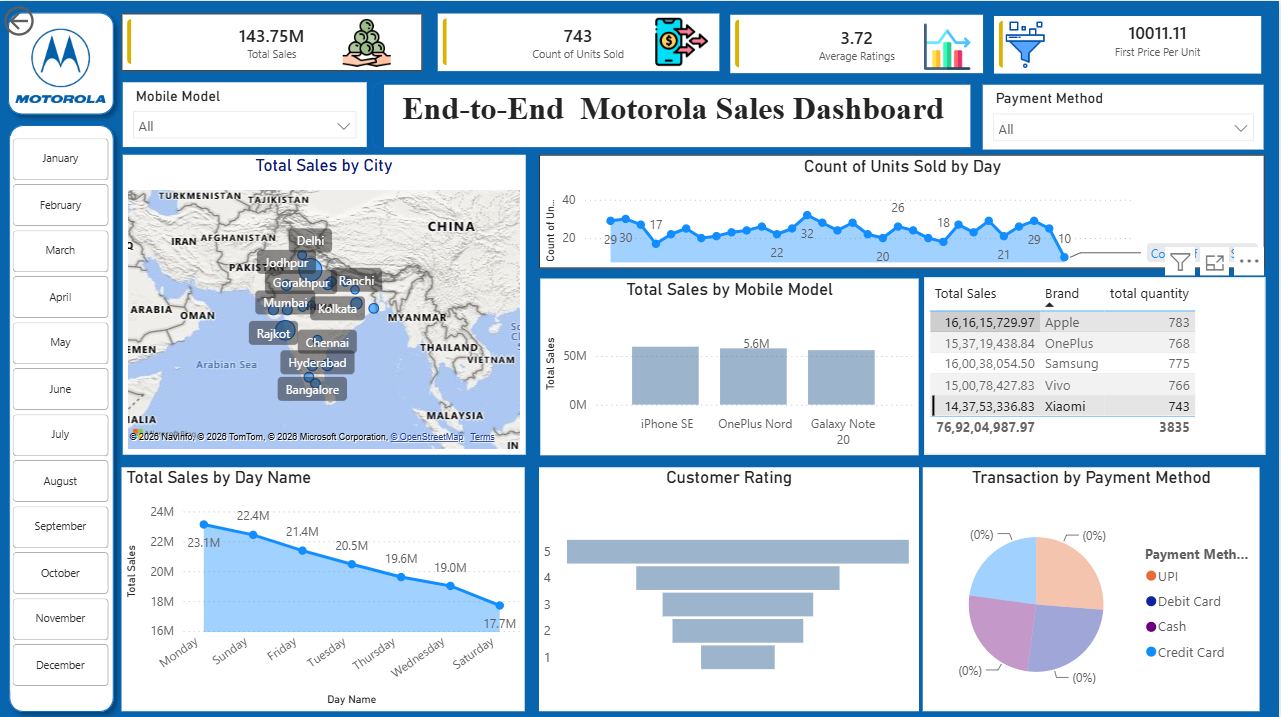

What the dashboard file says about the page in this screenshot:
{"tool":"powerbi","page":{"name":"Page 1","canvas":[1280,720],"ordinal":0},"visuals":[{"type":"shape","box":[0,2.3,123.8,120],"z":0},{"type":"image","box":[16.2,12.5,90.8,104.6],"z":1000},{"type":"shape","box":[1.2,115,122.5,605],"z":2000},{"type":"advancedSlicerVisual","fields":{"Values":["Sheet1.Date.Variation.Date Hierarchy.Month"]},"box":[11.5,134.6,100,555.1],"z":3000},{"type":"cardVisual","fields":{"Data":["Order_data.Total Sales"]},"box":[122.3,12.8,301.1,57.4],"z":4000},{"type":"cardVisual","fields":{"Data":["CountNonNull(Order_data.Units Sold)"]},"box":[439.4,12.8,281.9,57.4],"z":5000},{"type":"cardVisual","fields":{"Data":["Avg(Order_data.Customer Ratings)"]},"box":[730.9,13.8,253.2,58.5],"z":6000},{"type":"cardVisual","fields":{"Data":["Min(Order_data.Price Per Unit)"]},"box":[994.7,14.9,267,57.4],"z":7000},{"type":"map","fields":{"Category":["Order_data.City"],"Size":["Order_data.Total Sales"]},"box":[123.4,153.2,402.1,298.9],"z":8000},{"type":"lineChart","fields":{"Category":["Order_data.Date.Variation.Date Hierarchy.Day"],"Y":["CountNonNull(Order_data.Units Sold)"]},"box":[540.4,153.2,725.5,113.8],"z":9000},{"type":"clusteredColumnChart","fields":{"Category":["Order_data.Mobile Model"],"Y":["Order_data.Total Sales"]},"box":[541.4,277.1,378.6,177.1],"z":10000},{"type":"pieChart","fields":{"Category":["Order_data.Payment Method"],"Y":["Order_data.Transaction"]},"box":[924.3,465.7,337.1,244.3],"z":11000},{"type":"funnel","title":"Customer Rating ","fields":{"Category":["Order_data.Customer Ratings"],"Y":["CountNonNull(Order_data.Customer Ratings)"]},"box":[540,465.7,380,244.3],"z":12000},{"type":"lineChart","fields":{"Category":["Order_data.Day Name"],"Y":["Order_data.Total Sales"]},"box":[122.3,466,403.2,243.6],"z":13000},{"type":"tableEx","fields":{"Values":["Order_data.Total Sales","Order_data.Brand","Order_data.Units Sold"]},"box":[924.5,276.6,341.5,177.7],"z":14000},{"type":"actionButton","box":[0,0,100,40],"z":15000},{"type":"image","box":[924.5,2.1,46.2,86.2],"z":16000},{"type":"image","box":[331.9,16,70,51.2],"z":17000},{"type":"image","box":[656.4,0,52.5,81.2],"z":18000},{"type":"slicer","fields":{"Values":["Order_data.Mobile Model"]},"box":[123.4,80.9,243.6,64.9],"z":19000},{"type":"slicer","fields":{"Values":["Order_data.Payment Method"]},"box":[983.8,83.8,280.9,64.9],"z":20000},{"type":"shape","box":[372.5,80,598.8,68.8],"z":22001},{"type":"textbox","box":[385,83.8,586.2,62.5],"z":22002}]}

Visuals, with their boxes in screenshot pixels (x1, y1, x2, y2), scaled from the page's 1280x720 canvas onto the 1281x717 screenshot:
shape: detection(0, 2, 124, 122)
image: detection(16, 12, 107, 117)
shape: detection(1, 115, 124, 716)
advancedSlicerVisual - Sheet1.Date.Variation.Date Hierarchy.Month: detection(12, 134, 112, 687)
cardVisual - Order_data.Total Sales: detection(122, 13, 424, 70)
cardVisual - CountNonNull(Order_data.Units Sold): detection(440, 13, 722, 70)
cardVisual - Avg(Order_data.Customer Ratings): detection(731, 14, 985, 72)
cardVisual - Min(Order_data.Price Per Unit): detection(995, 15, 1263, 72)
map - Order_data.City x Order_data.Total Sales: detection(123, 153, 526, 450)
lineChart - Order_data.Date.Variation.Date Hierarchy.Day x CountNonNull(Order_data.Units Sold): detection(541, 153, 1267, 266)
clusteredColumnChart - Order_data.Mobile Model x Order_data.Total Sales: detection(542, 276, 921, 452)
pieChart - Order_data.Payment Method x Order_data.Transaction: detection(925, 464, 1262, 707)
"Customer Rating " funnel: detection(540, 464, 921, 707)
lineChart - Order_data.Day Name x Order_data.Total Sales: detection(122, 464, 526, 707)
tableEx - Order_data.Total Sales x Order_data.Brand: detection(925, 275, 1267, 452)
actionButton: detection(0, 0, 100, 40)
image: detection(925, 2, 971, 88)
image: detection(332, 16, 402, 67)
image: detection(657, 0, 709, 81)
slicer - Order_data.Mobile Model: detection(123, 81, 367, 145)
slicer - Order_data.Payment Method: detection(985, 83, 1266, 148)
shape: detection(373, 80, 972, 148)
textbox: detection(385, 83, 972, 146)
